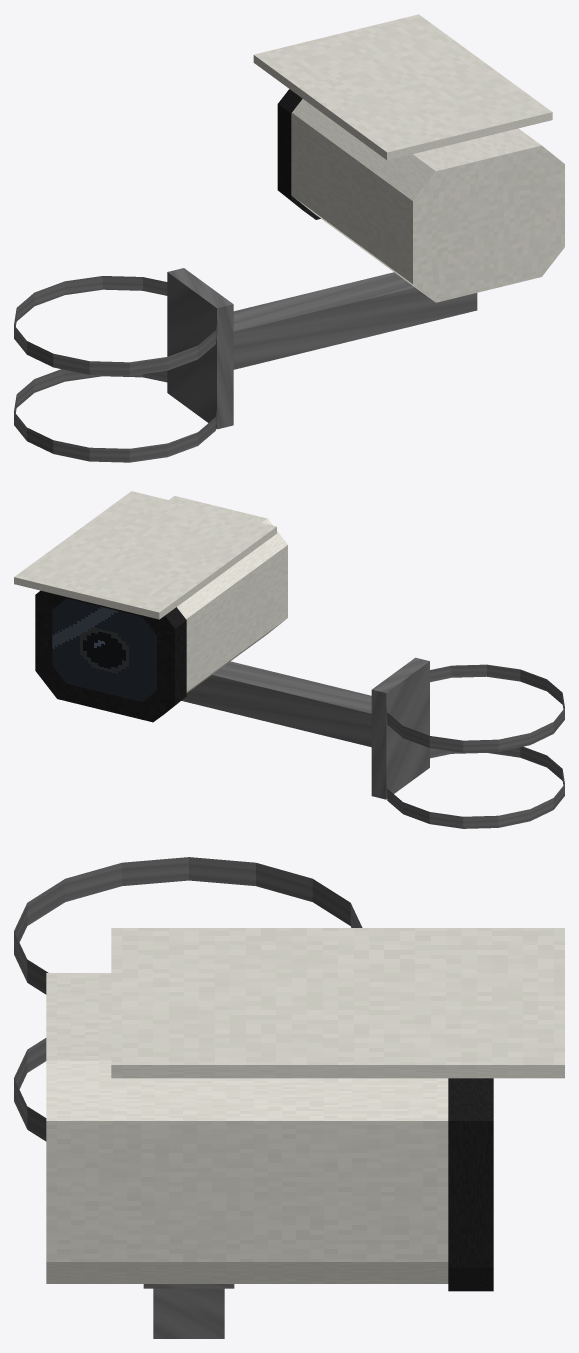
Rendered from red_light_camera_side_left_thin.obj.
The picture shows the model from 3 angles, top to bottom: view 1: azimuth 30°, elevation 25°; view 2: azimuth 150°, elevation 25°; view 3: azimuth 270°, elevation 25°; orthographic projection. The views are drawn at different scales.
Parts seen in each view (by area): view 1: red_light_camera_side_left_thin; view 2: red_light_camera_side_left_thin; view 3: red_light_camera_side_left_thin.
Part boxes in pixels (bbox=[...]): red_light_camera_side_left_thin: bbox=[14, 14, 564, 462]; red_light_camera_side_left_thin: bbox=[14, 491, 564, 828]; red_light_camera_side_left_thin: bbox=[14, 857, 564, 1338].
Bounding box in the file's own units: 1.52 × 0.675 × 0.85.
